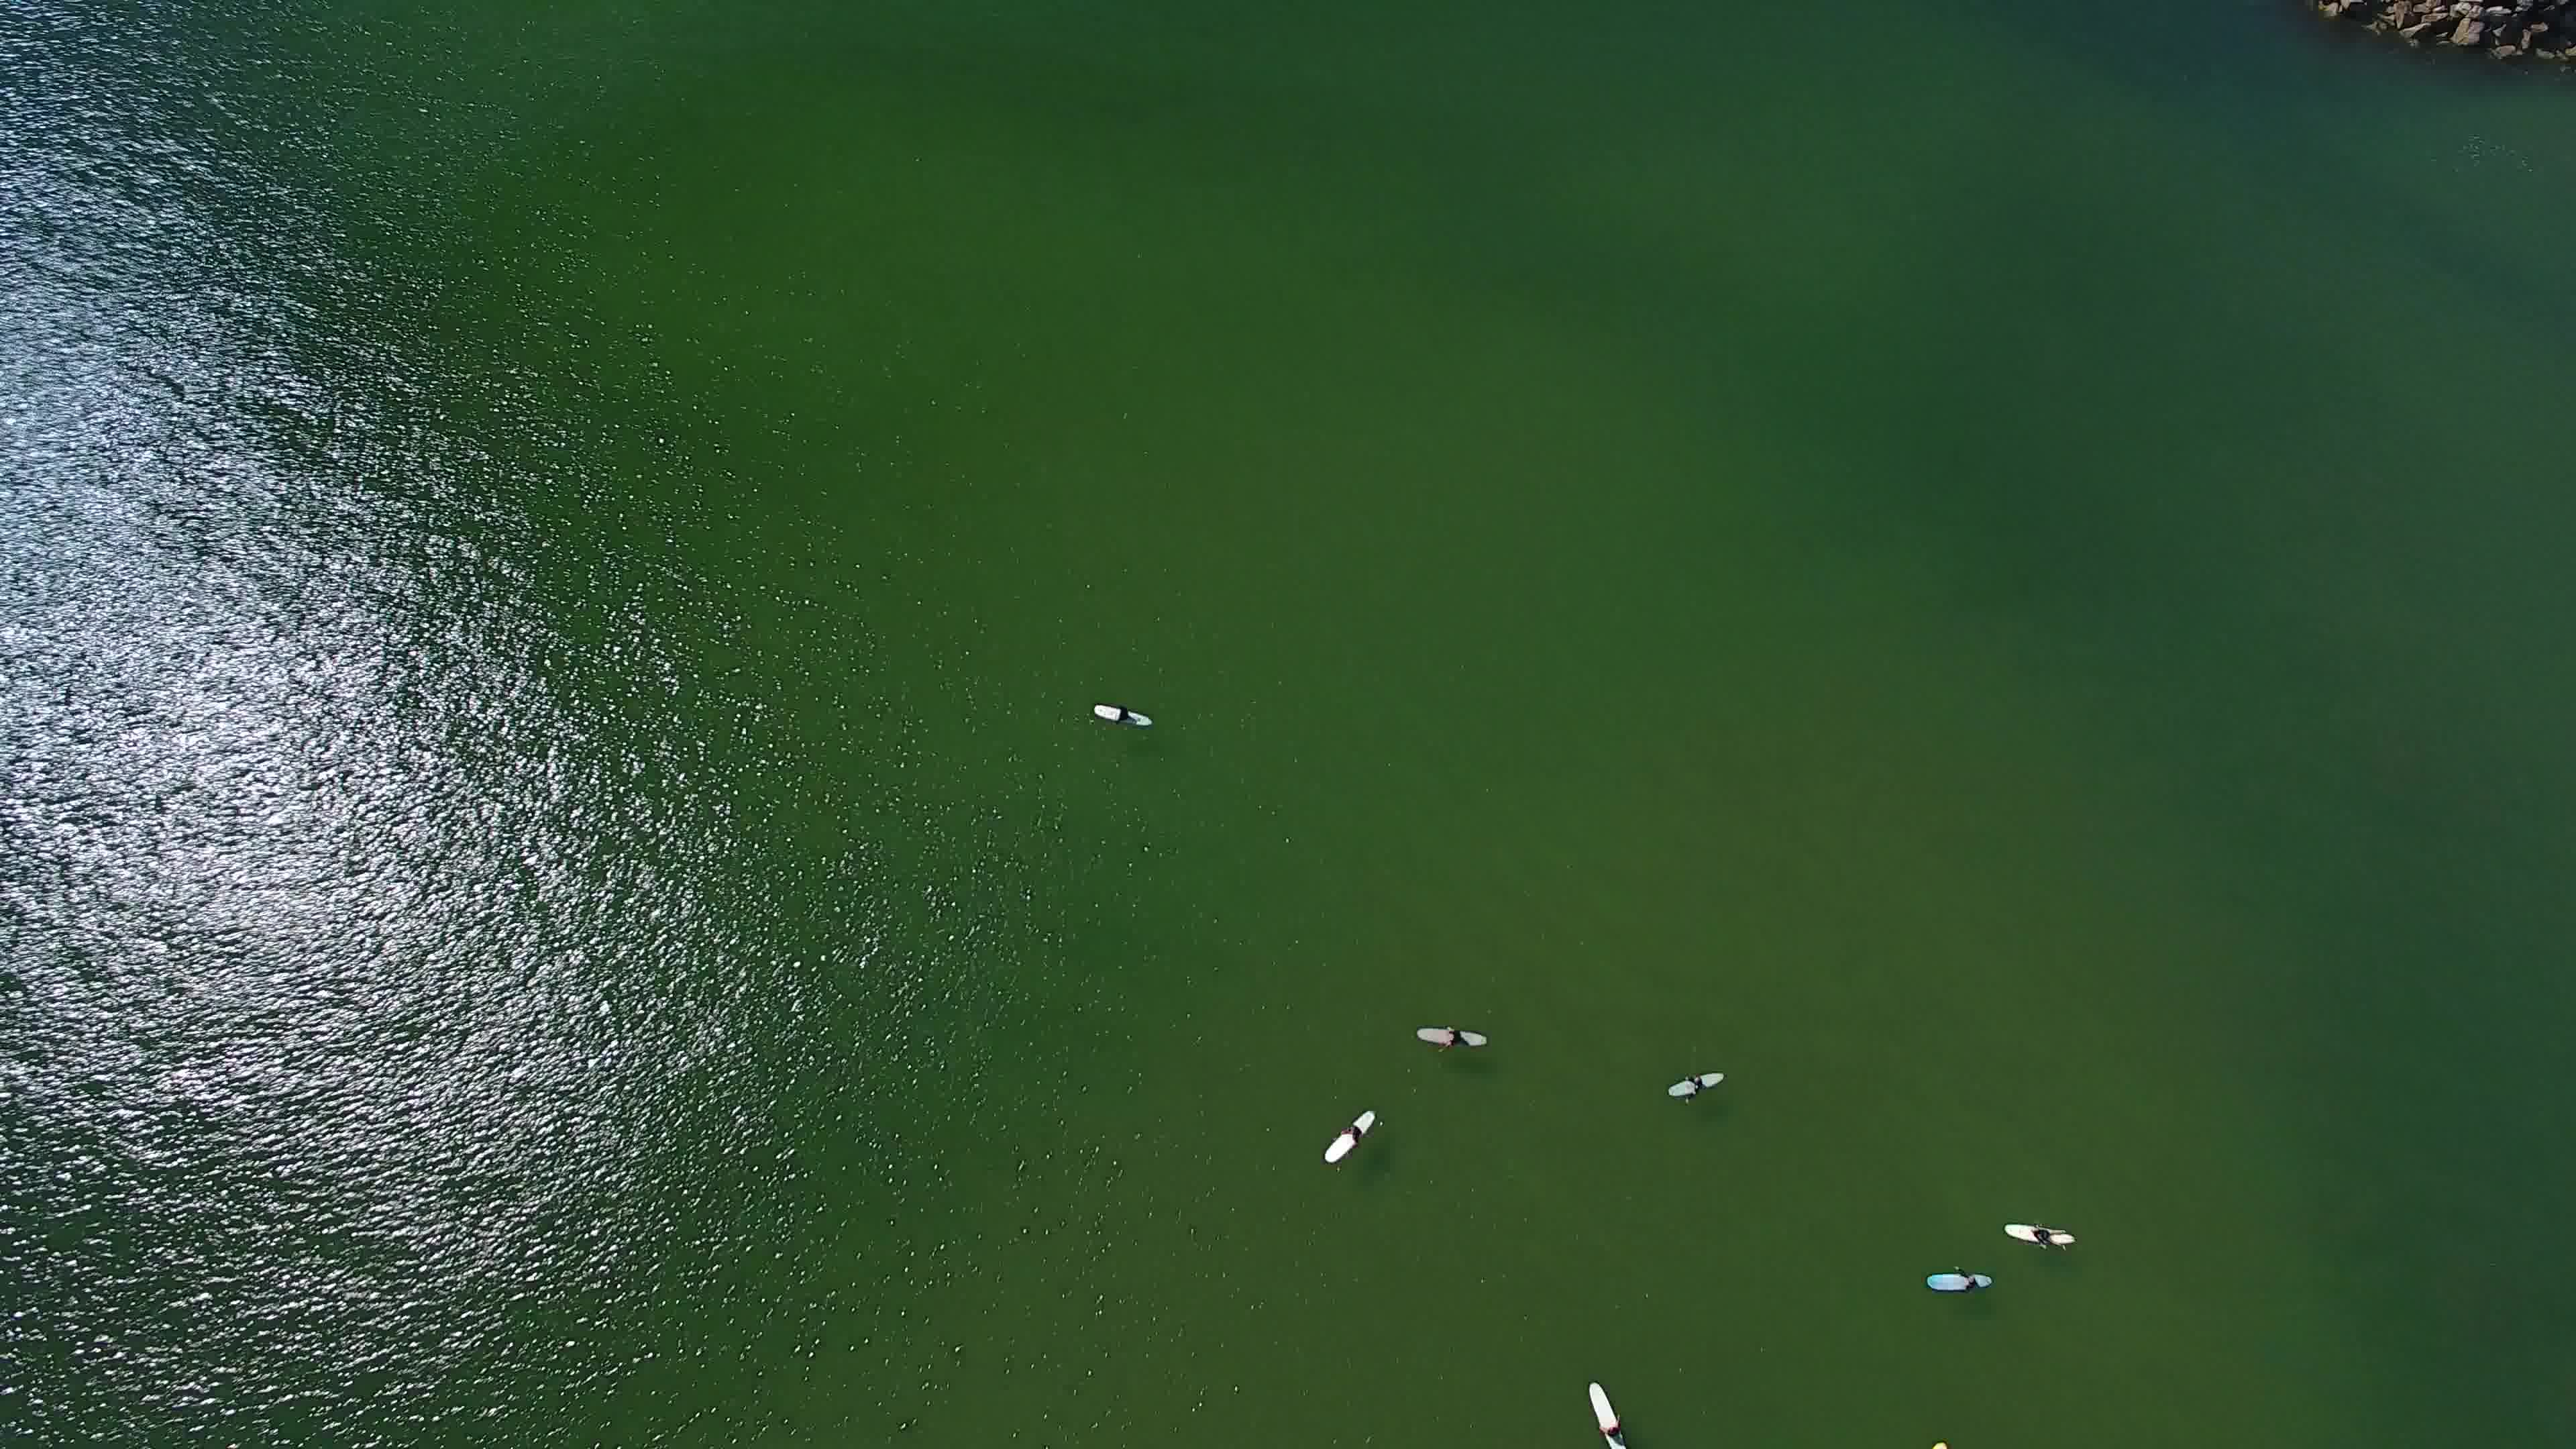surfer: (1566, 1380, 1651, 1449), (1410, 1012, 1493, 1058), (1322, 1104, 1380, 1169), (1994, 1215, 2086, 1254), (1665, 1062, 1734, 1109), (1923, 1260, 1994, 1304), (1085, 695, 1161, 736)
